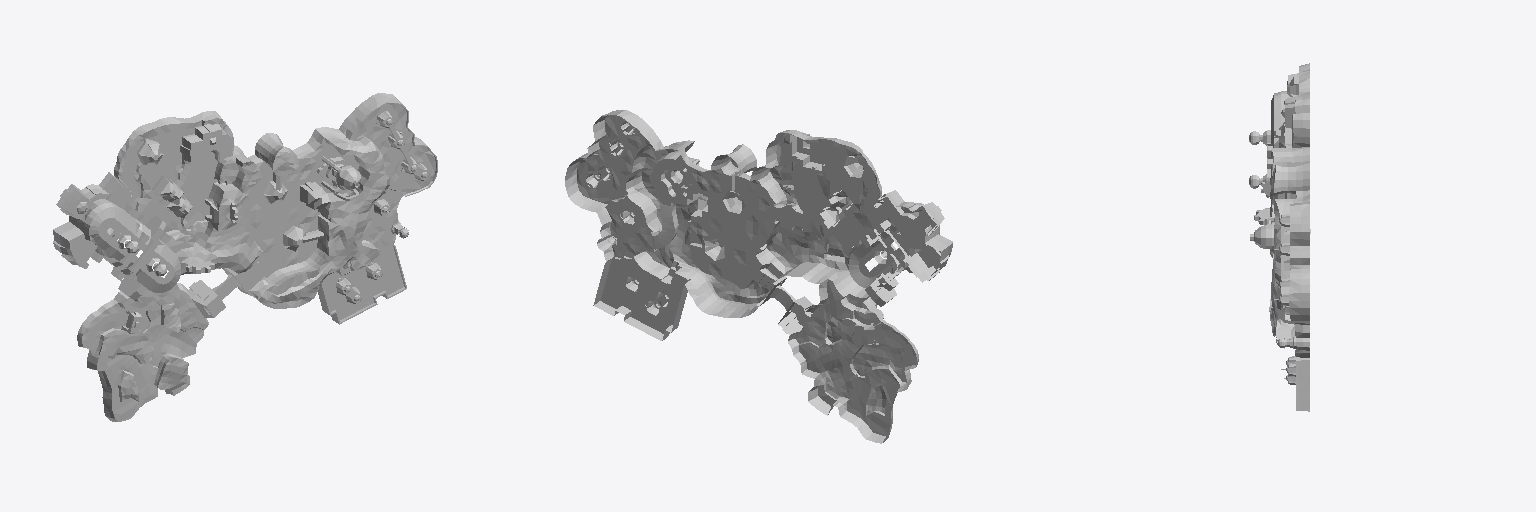
The model's file is map.obj.
3 views of the same model, side by side, from view 1: azimuth 30°, elevation 25°; view 2: azimuth 150°, elevation 25°; view 3: azimuth 270°, elevation 25° (orthographic).
Parts seen in each view (by area): view 1: tex_72; view 2: tex_72; view 3: tex_72.
Boxes of the visible parts, x1,y1,x2,y2 form: tex_72: [53, 93, 437, 421]; tex_72: [565, 110, 952, 443]; tex_72: [1249, 63, 1310, 411].
Size of the model in its own units: 7790 by 5756 by 1104.